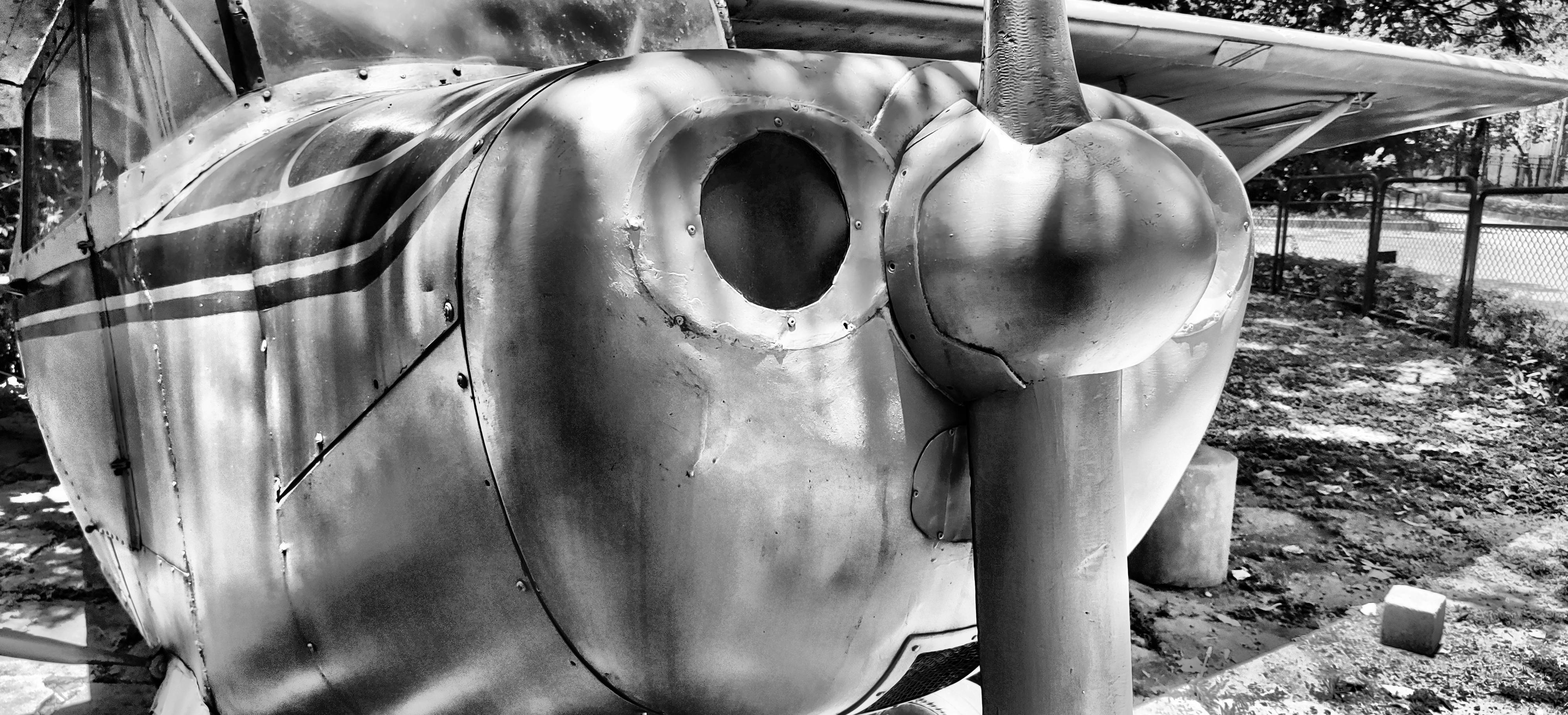dent: (248, 285, 277, 372), (226, 242, 262, 290), (1166, 143, 1208, 178), (1201, 172, 1232, 215), (1179, 309, 1221, 339), (855, 287, 887, 325), (27, 270, 74, 294), (1078, 542, 1109, 578), (889, 152, 915, 193), (99, 261, 127, 299), (1236, 249, 1254, 292), (138, 173, 165, 200), (176, 660, 195, 681), (775, 325, 794, 344), (422, 284, 435, 295)
missing-head: (840, 316, 851, 332), (886, 261, 899, 273), (371, 378, 380, 389), (908, 333, 919, 342), (946, 385, 958, 393), (900, 169, 909, 179), (637, 708, 648, 715), (483, 480, 491, 487), (570, 659, 576, 668)
scratch: (933, 428, 956, 548), (689, 395, 712, 476)
